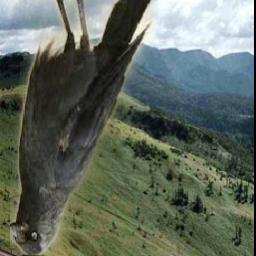Crow: (9, 0, 157, 255)
